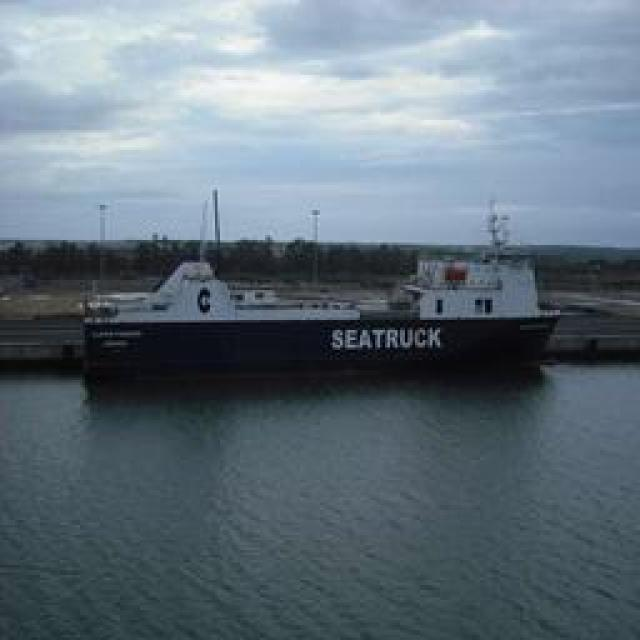ship2: (85, 185, 563, 383)
